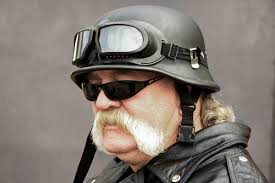helmet: (72, 2, 222, 96)
